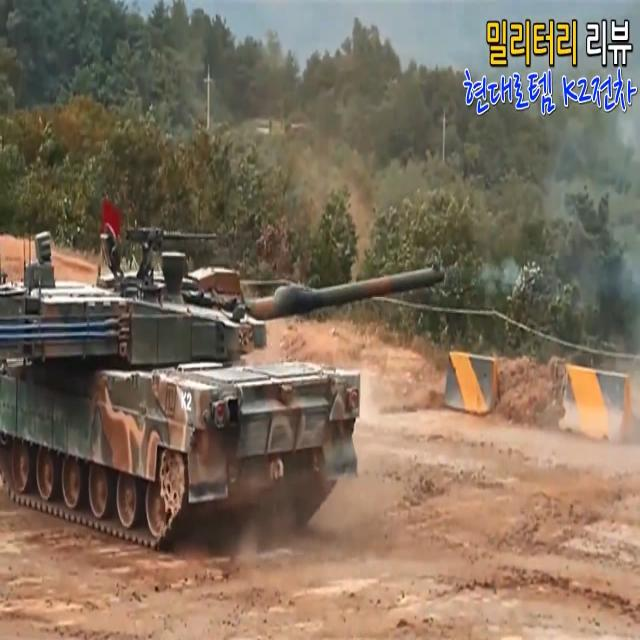korea tank: (0, 225, 446, 547)
